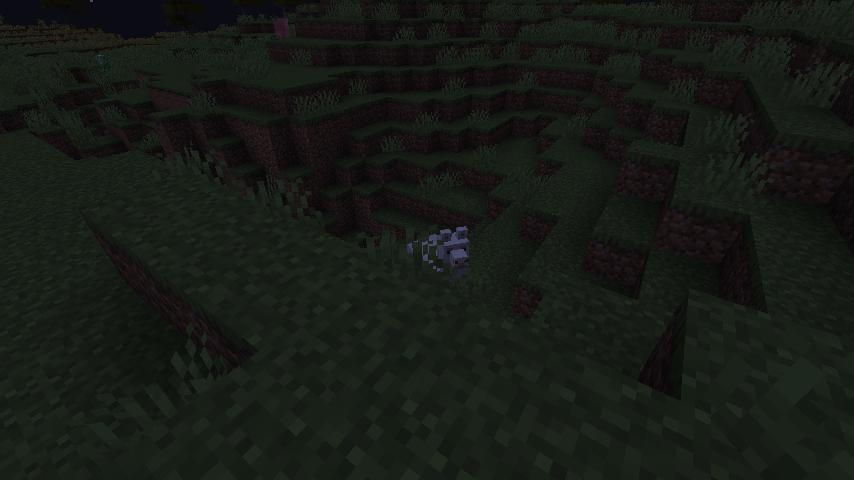llama: (406, 224, 473, 284)
